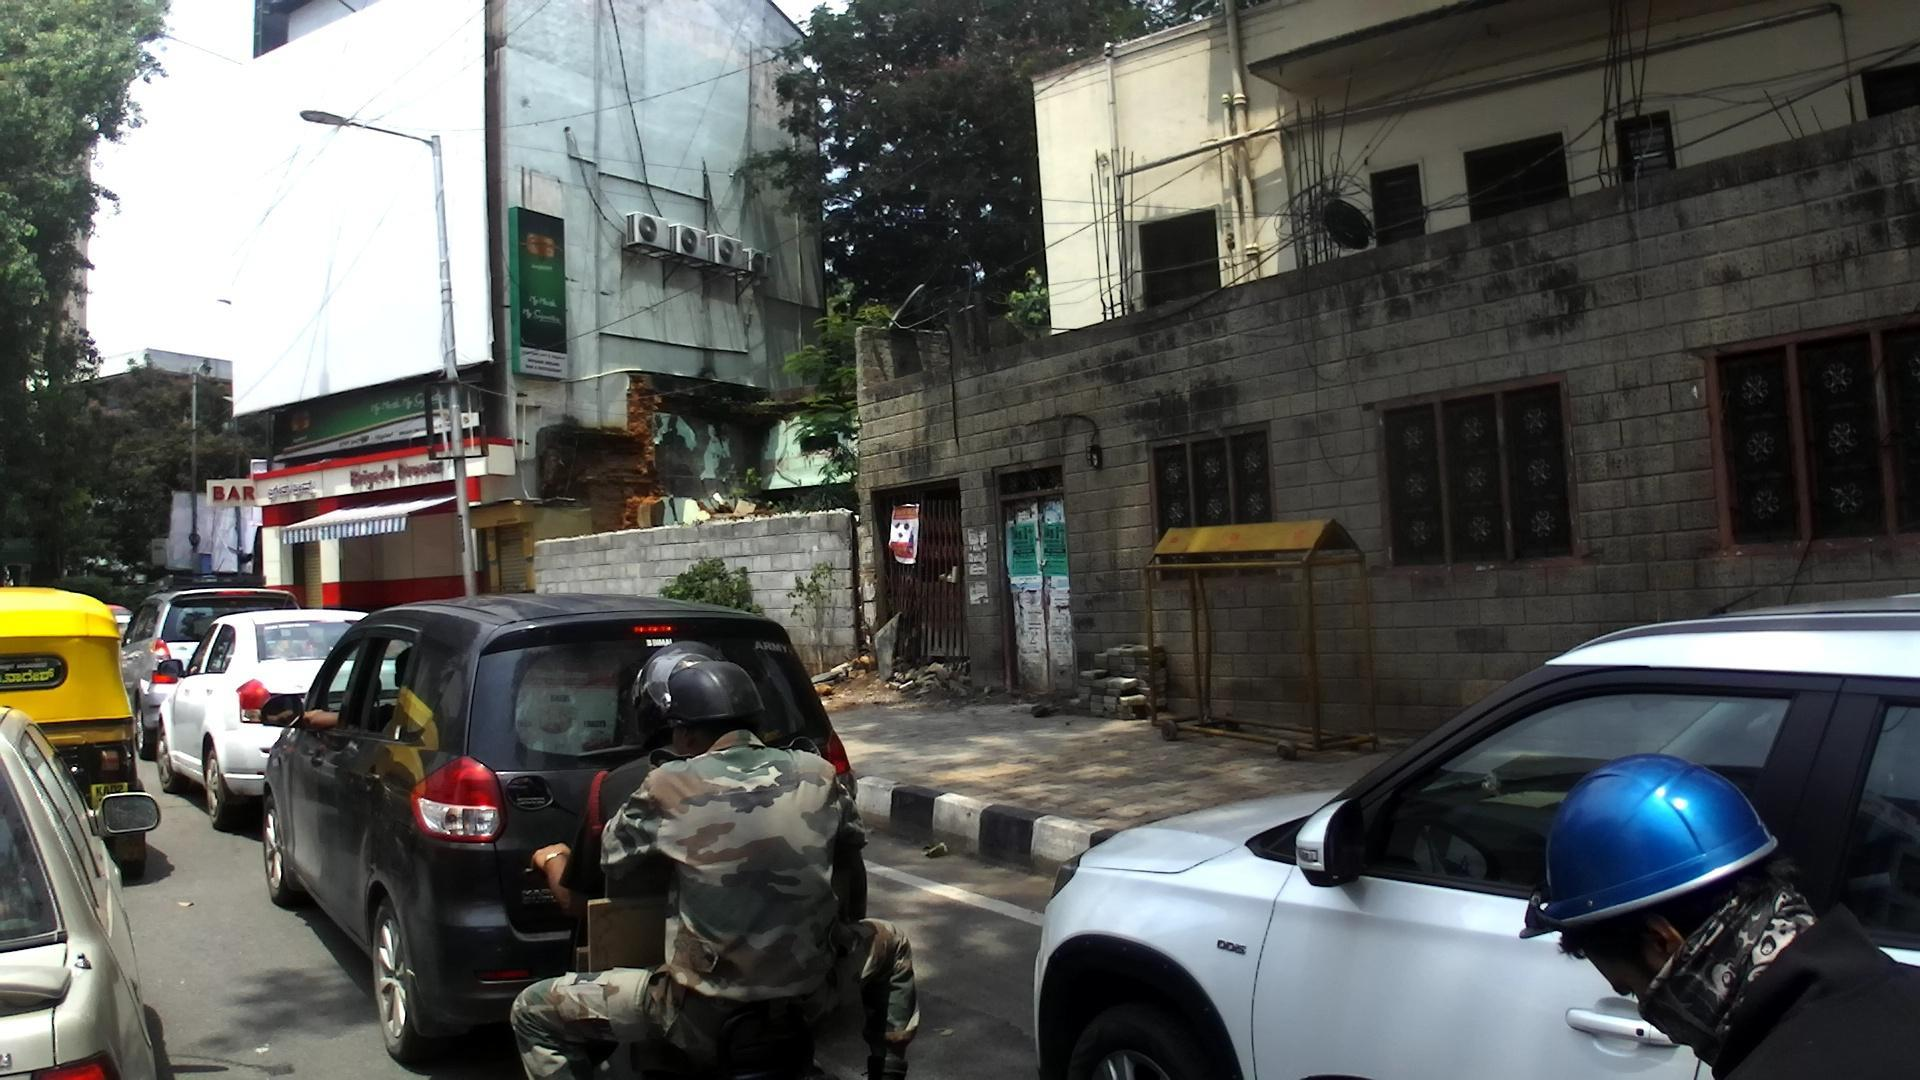off: (40, 22, 1527, 1080)
